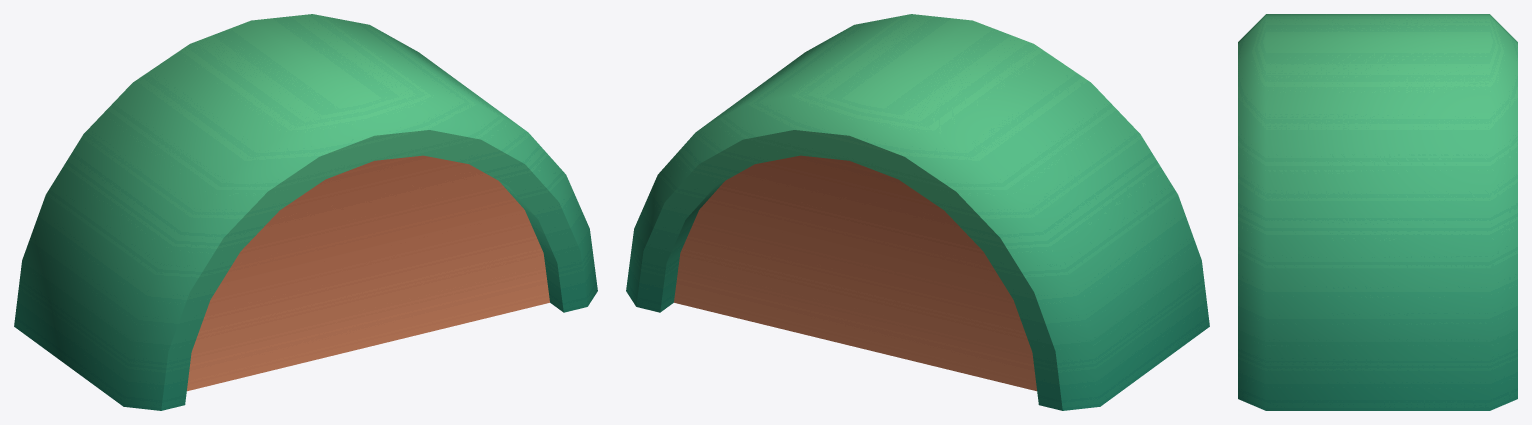
Rendered from block-grass-curve.glb.
3 renders of one model, left to right at view 1: azimuth 30°, elevation 25°; view 2: azimuth 150°, elevation 25°; view 3: azimuth 270°, elevation 25°, orthographic. The views are drawn at different scales.
Parts seen in each view (by area): view 1: block-grass-curve; view 2: block-grass-curve; view 3: block-grass-curve.
Part boxes in pixels (left/top/right/bottom): block-grass-curve: left=14, top=14, right=597, bottom=410; block-grass-curve: left=626, top=14, right=1209, bottom=410; block-grass-curve: left=1238, top=14, right=1517, bottom=410.
Size of the model in its own units: 2 by 1 by 1.
1 material, 1 textured.
